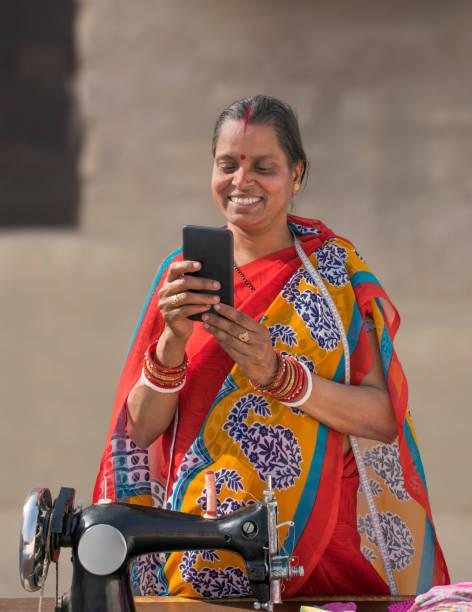Human: (117, 46, 408, 612)
